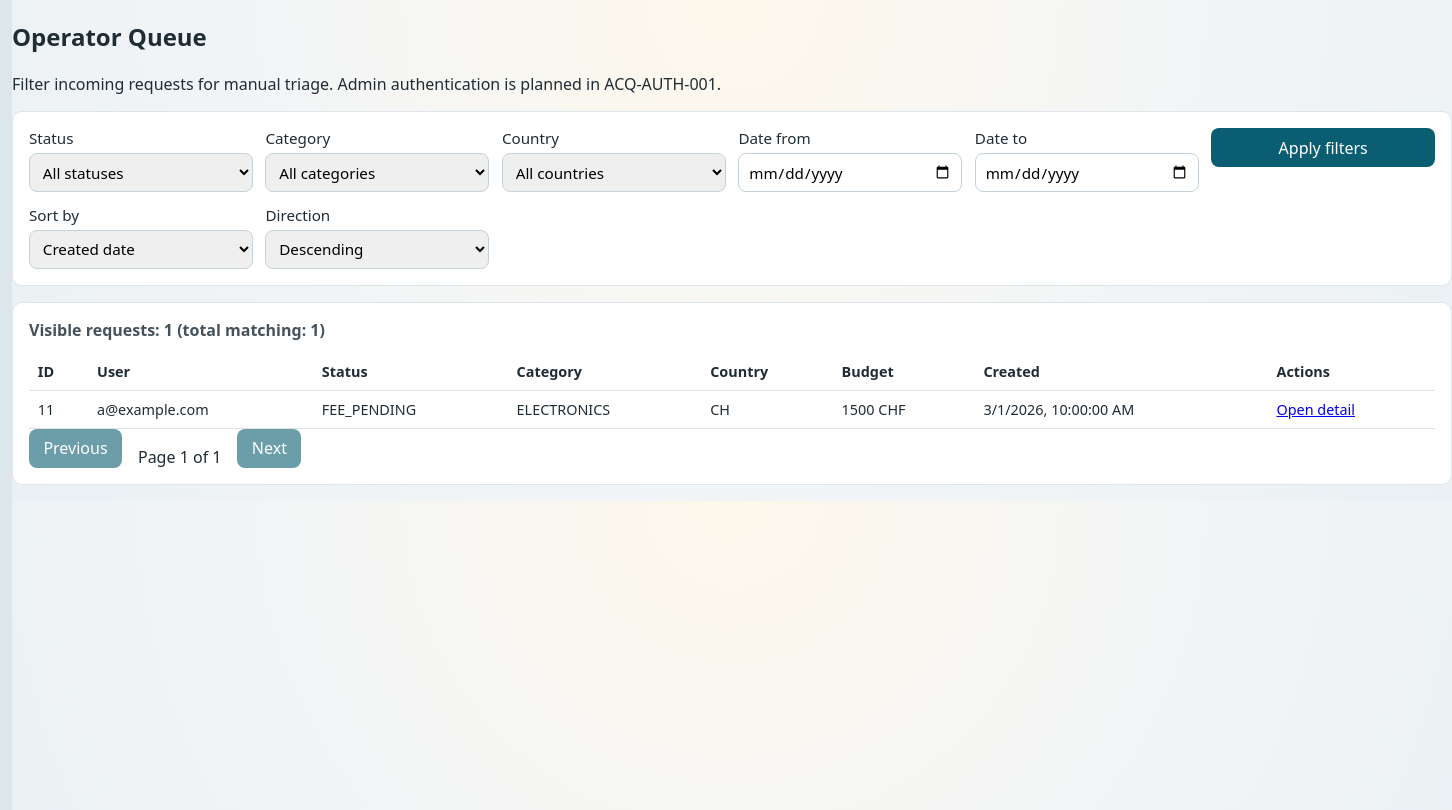
Test case: OperatorQueuePage › applies API-backed filters including date range
Expected: the text "Visible requests: 1 (total matching: 1)" is shown, [29,318,325,340]
Select "FEE_PENDING" in the dropdown labelled "Status": [141, 173] box [29,153,253,192]
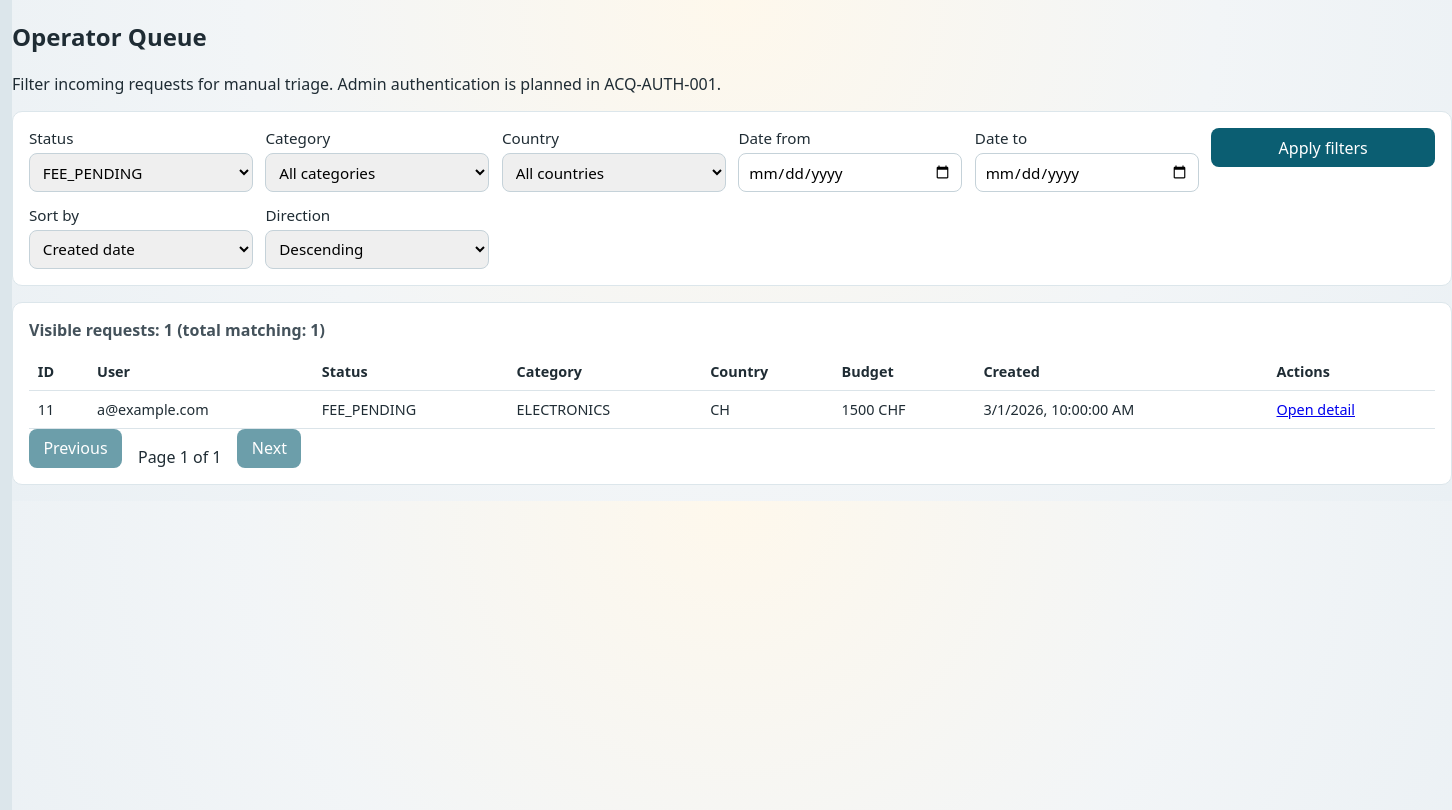
In the date field labelled "Date from": [850, 173] box [738,153,962,192], type "2026-03-01"
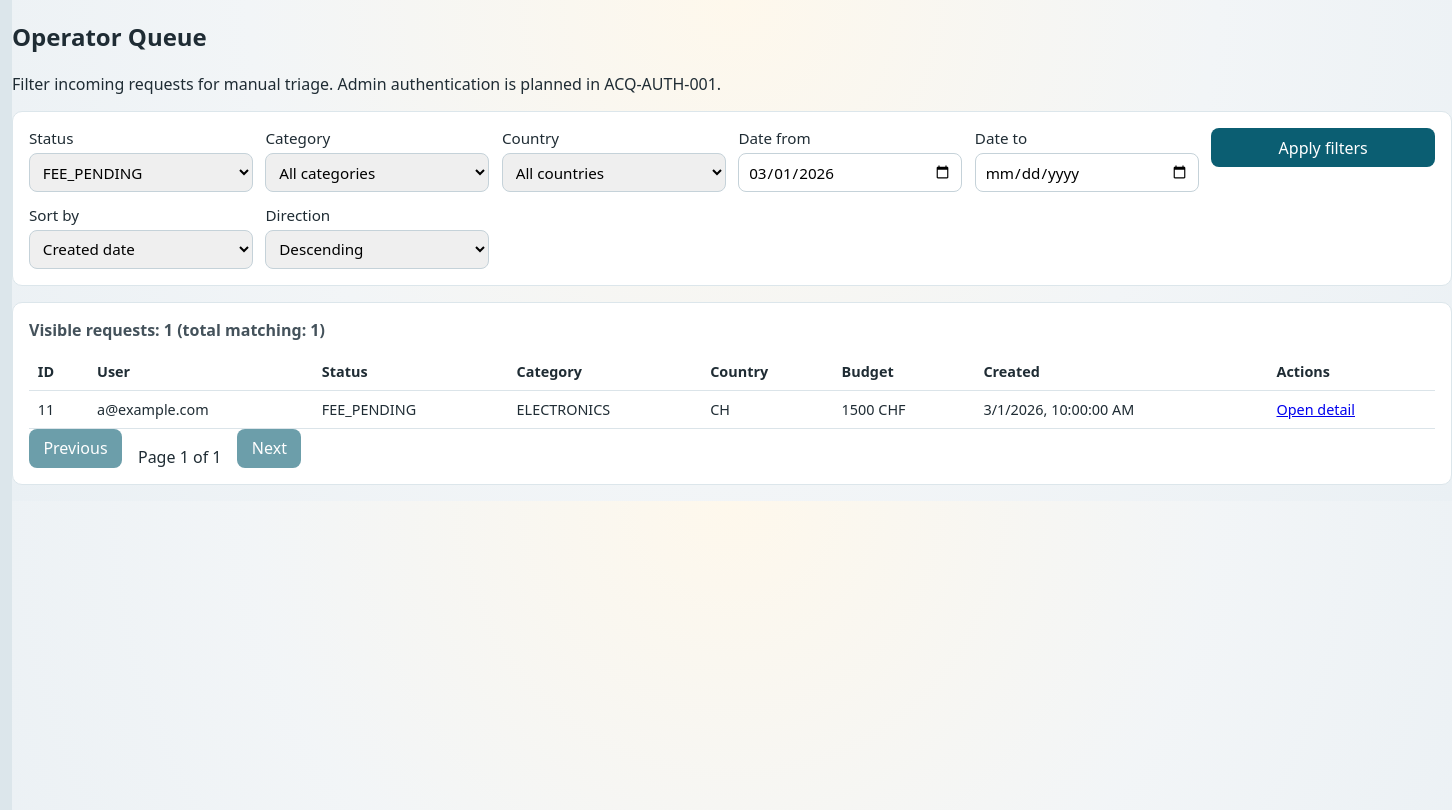
In the date field labelled "Date to": [1087, 173] box [975,153,1199,192], type "2026-03-05"
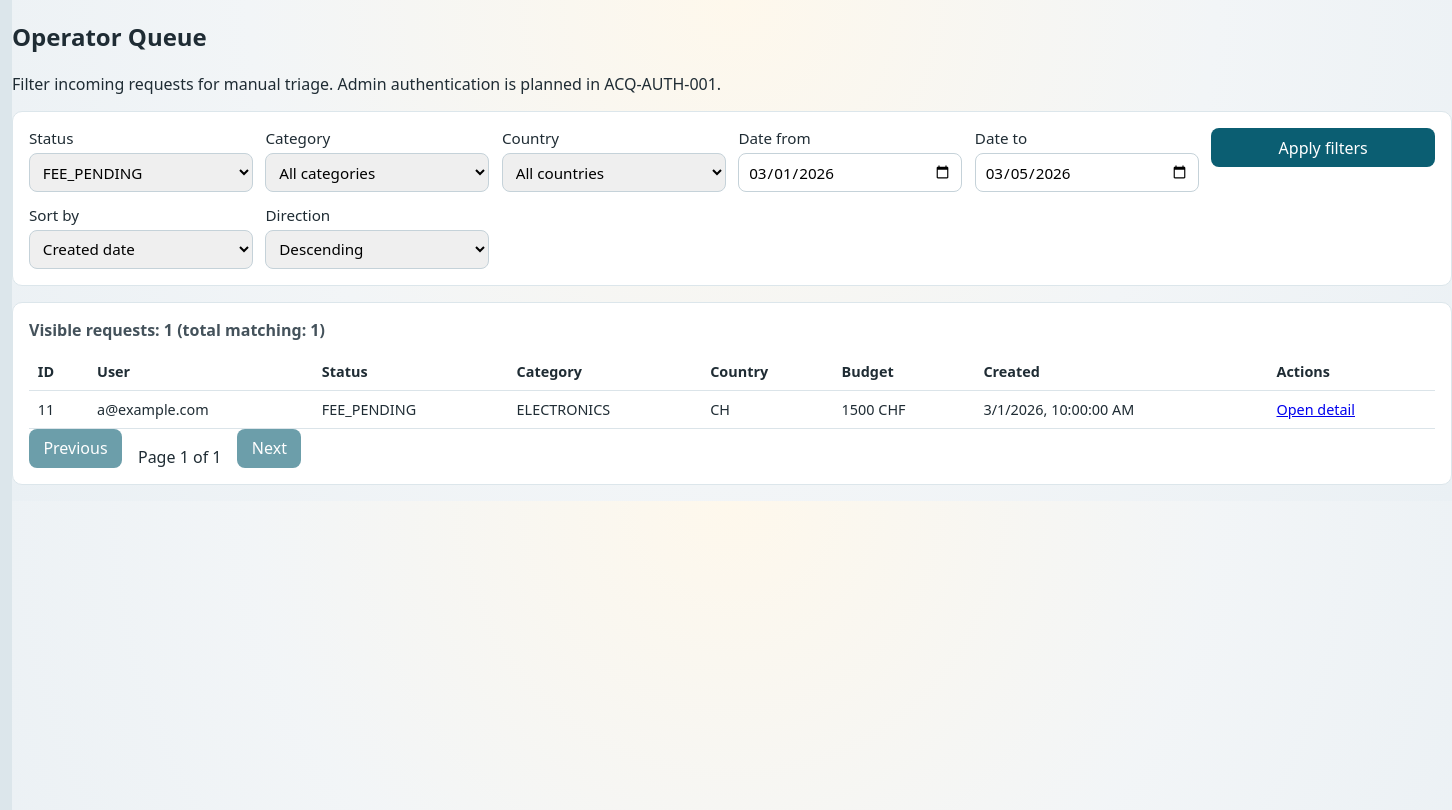
Select "Budget (CHF)" in the dropdown labelled "Sort by": [141, 249] box [29,230,253,269]
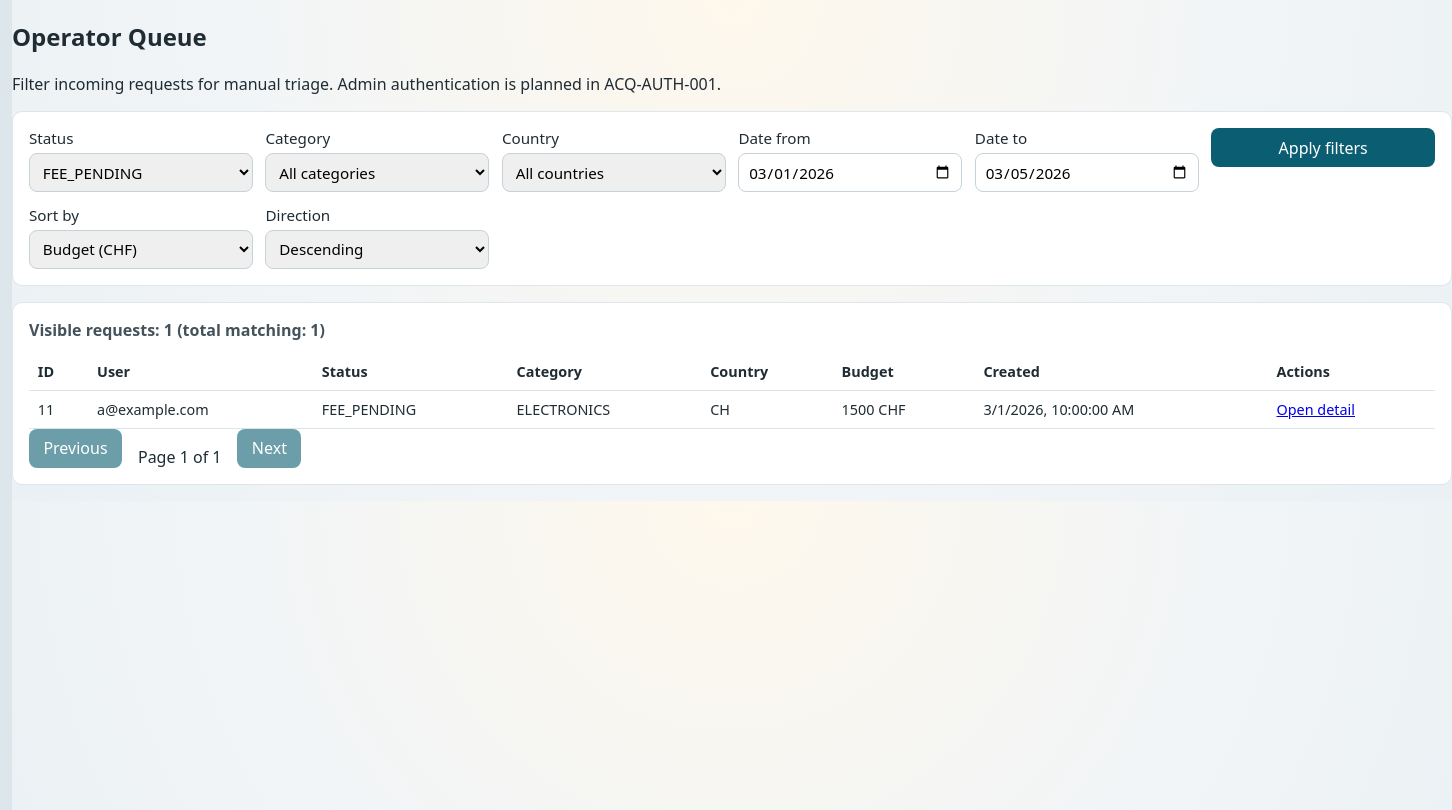
Select "Ascending" in the dropdown labelled "Direction": [377, 249] box [266,230,489,269]
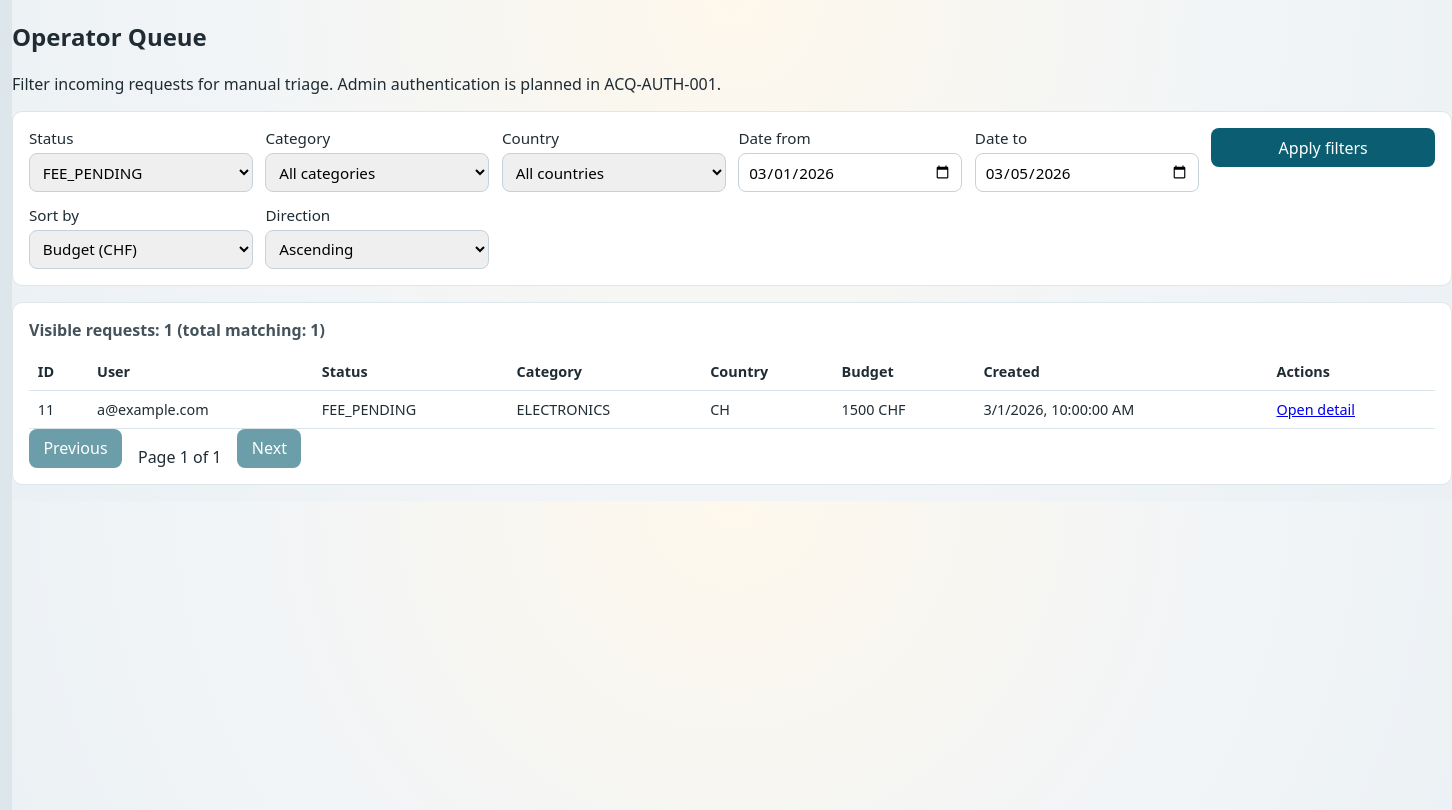
Click the button "Apply filters": [1323, 148] box [1211,128,1435,167]
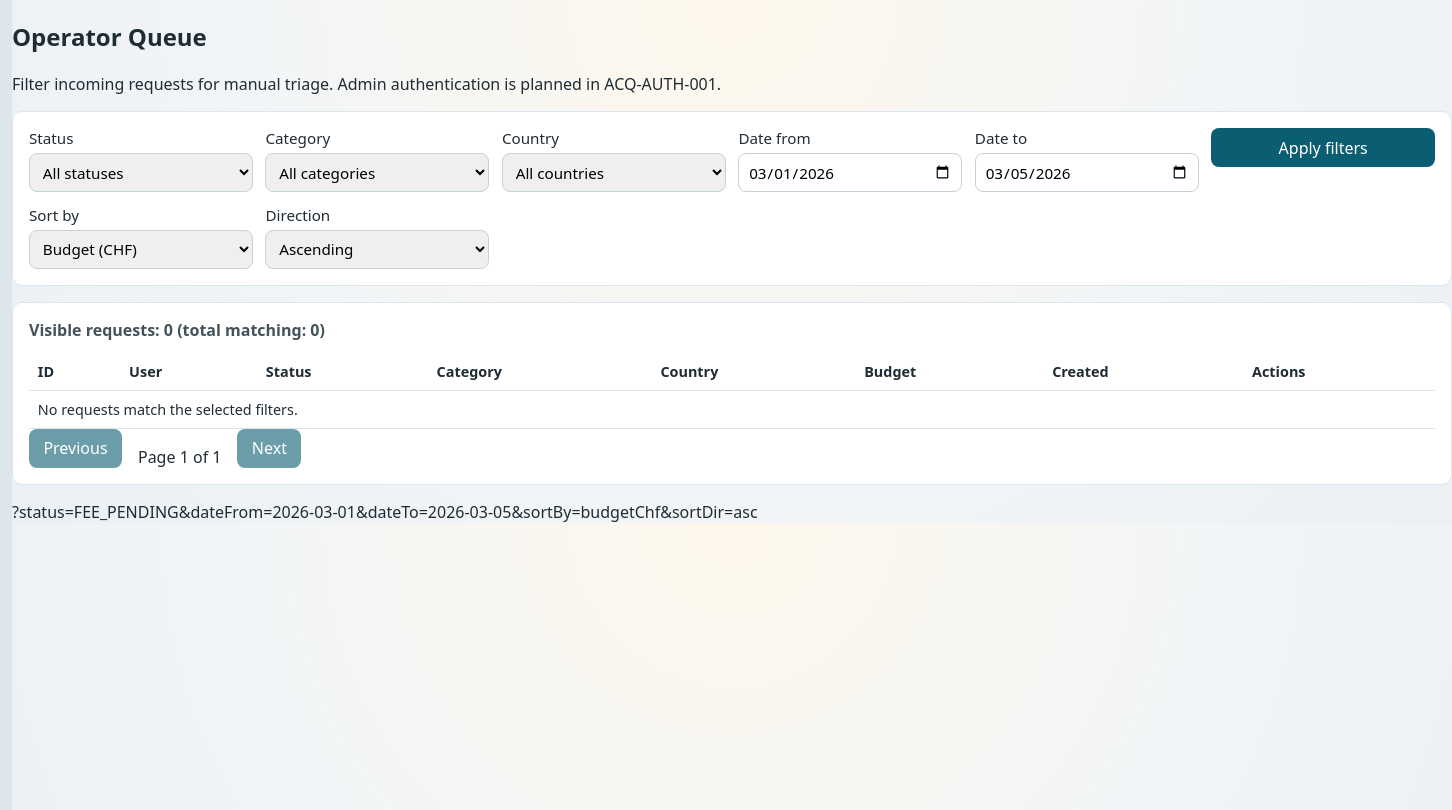
Result: the text "No requests match the selected filters." is shown at [29,390,1435,428]
Result: the text with test id "location-search" shows "status=FEE_PENDING" at [12,501,758,523]
Result: the text with test id "location-search" shows "dateFrom=2026-03-01" at [12,501,758,523]
